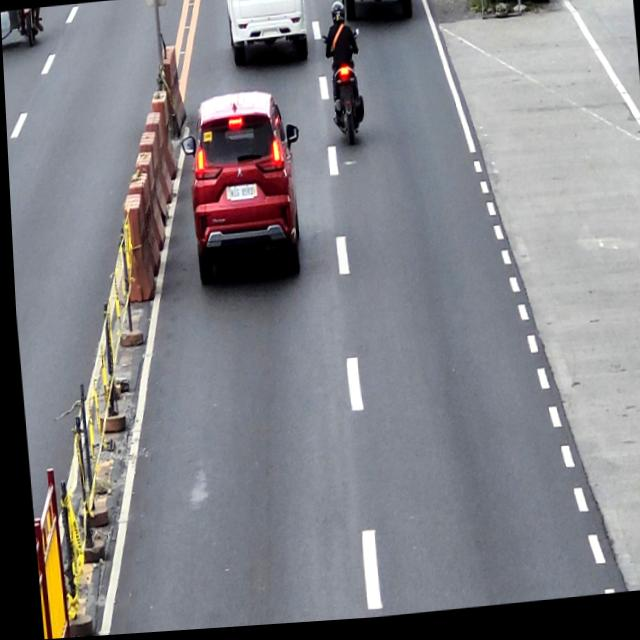Car: (176, 88, 308, 292), (224, 0, 310, 72)
License-Plate: (226, 187, 251, 204), (257, 0, 276, 1)
Motorcycle: (320, 32, 367, 153)
